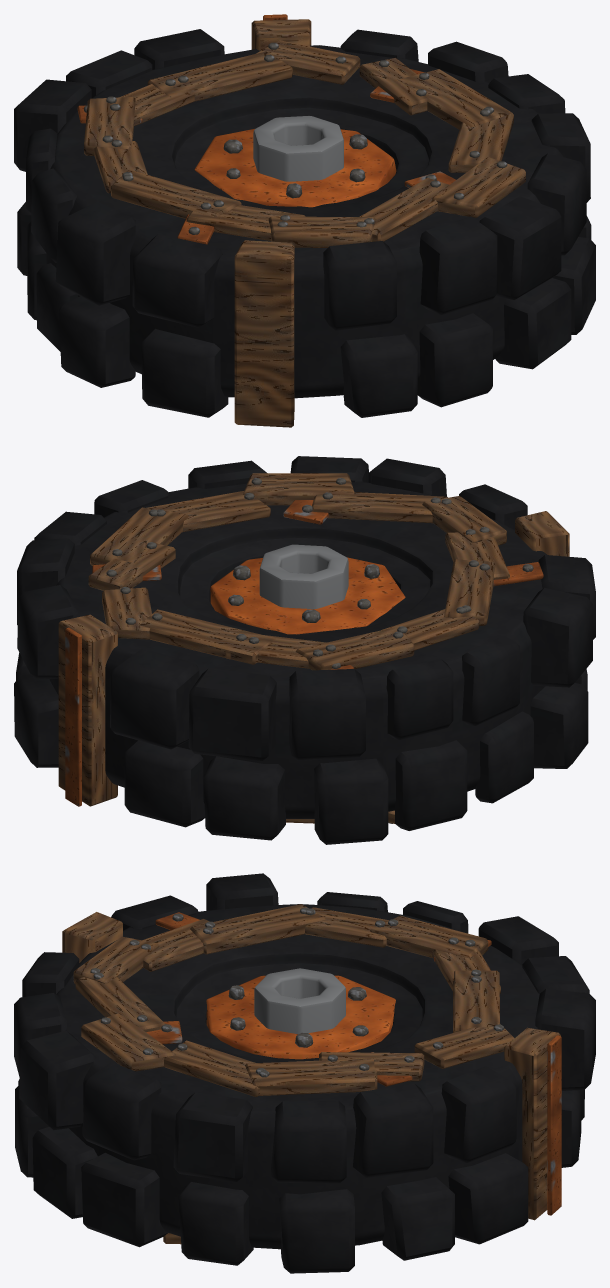
File: scrap_wheel.glb
3 views of the same model, one above another, from view 1: azimuth 30°, elevation 25°; view 2: azimuth 150°, elevation 25°; view 3: azimuth 270°, elevation 25° (orthographic). The views are drawn at different scales.
Visible parts, largest first — view 1: SM_Wheel_Scrap; view 2: SM_Wheel_Scrap; view 3: SM_Wheel_Scrap.
Part boxes in pixels (box(x1,y1,x2,y2)): SM_Wheel_Scrap: box(14, 14, 595, 427); SM_Wheel_Scrap: box(14, 456, 595, 844); SM_Wheel_Scrap: box(14, 873, 595, 1273).
Size of the model in its own units: 0.7314 by 0.246 by 0.7251.
Materials: 6 (5 with a texture image).
